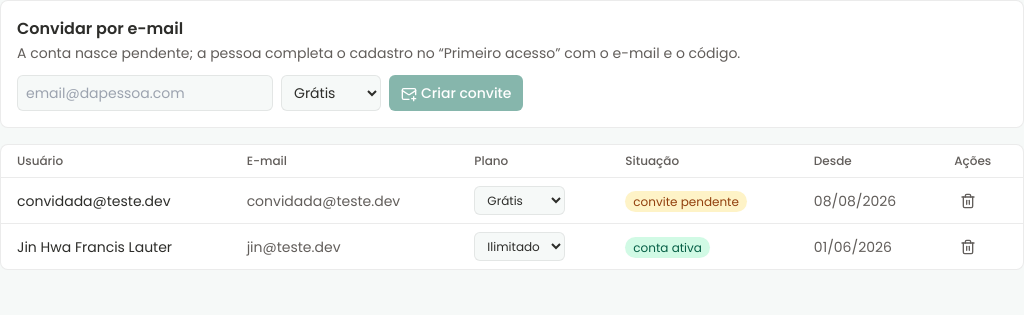
Test: UsersAdminView — convites e contas › falha do convite mostra a mensagem sem exibir código nenhum
The width and height of the screenshot is (1024, 315).
Type "ja@existe.dev" into the field with placeholder "email@dapessoa.com" at (145, 93), box [17, 75, 273, 111]
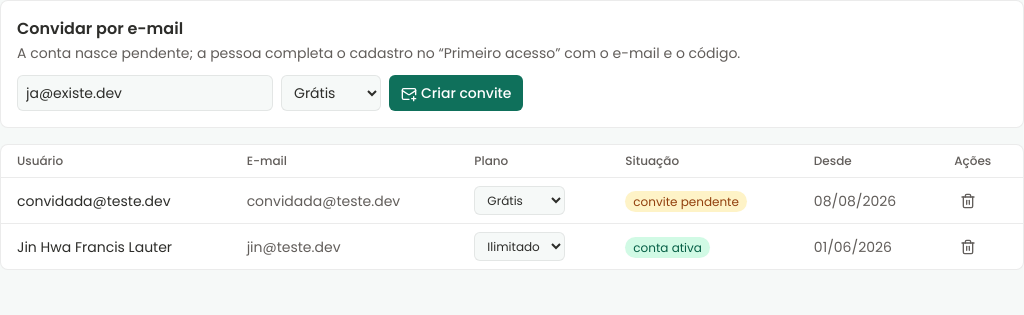
Click the button "Criar convite" at (456, 93), box [389, 75, 523, 111]
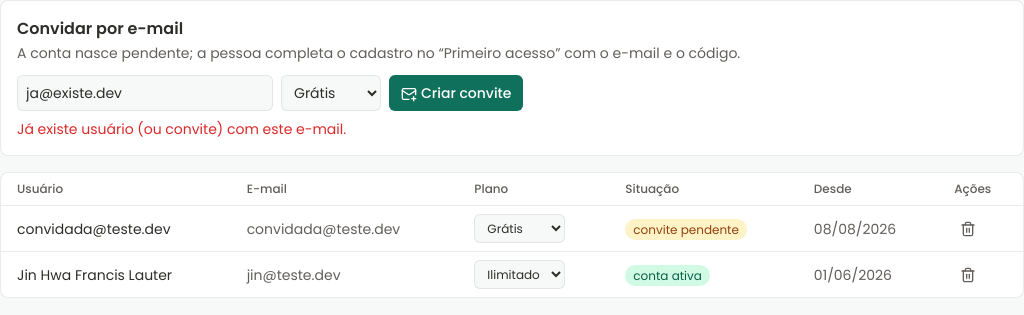
Check: the text "Já existe usuário (ou convite) com este e-mail." is shown, box [17, 119, 346, 139]
